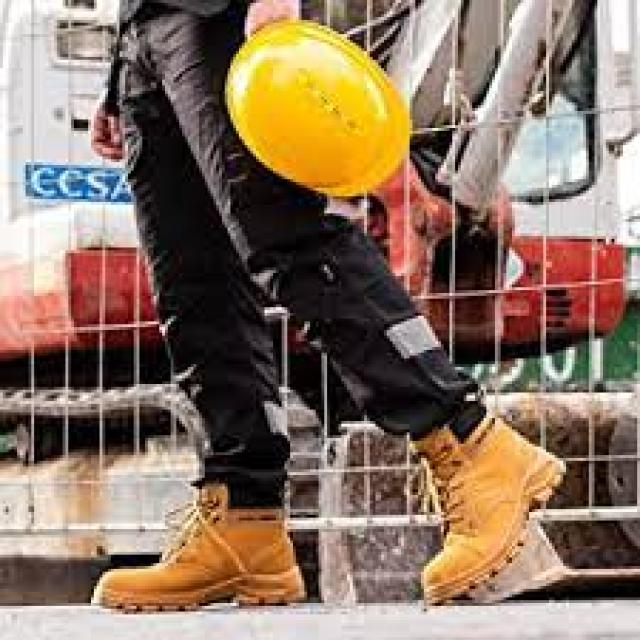shoes: (407, 397, 568, 609), (91, 504, 310, 615)
